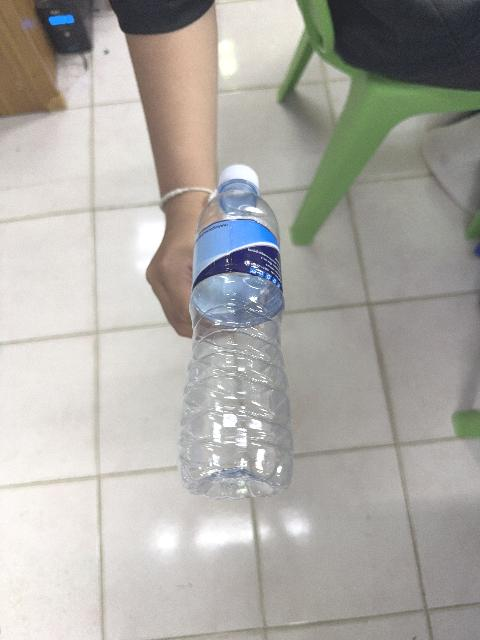bottle: (179, 165, 293, 498)
